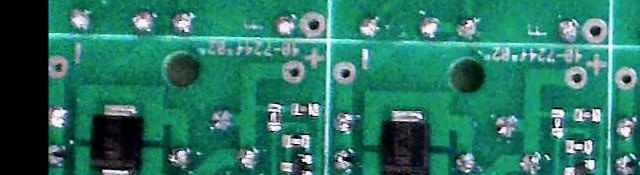chip-resistor: (565, 137, 592, 152), (267, 102, 281, 130), (551, 107, 564, 136), (282, 133, 310, 146), (575, 106, 601, 120), (292, 101, 318, 114)
diode: (91, 104, 142, 175), (383, 109, 429, 175)
transistor: (280, 152, 312, 175), (565, 157, 596, 175)
